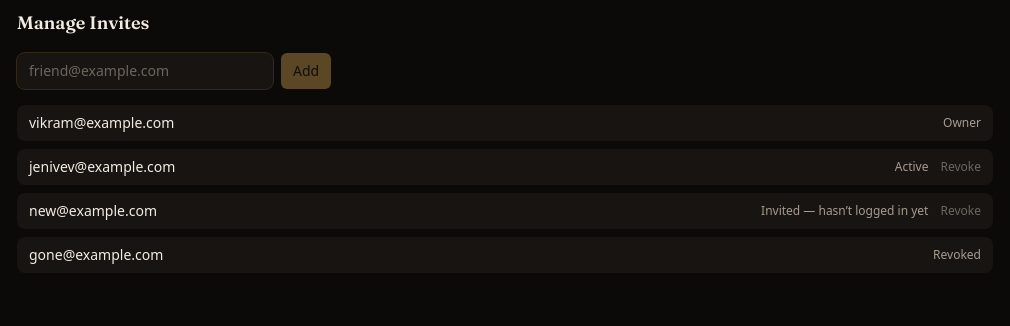
ManageInvites › revokes an active member and refreshes the list
Expected: the text "jenivev@example.com" is shown, [29,157,175,177]
Click the button with aria-label "Revoke jenivev@example.com" at (961, 167), box [940,159,981,175]
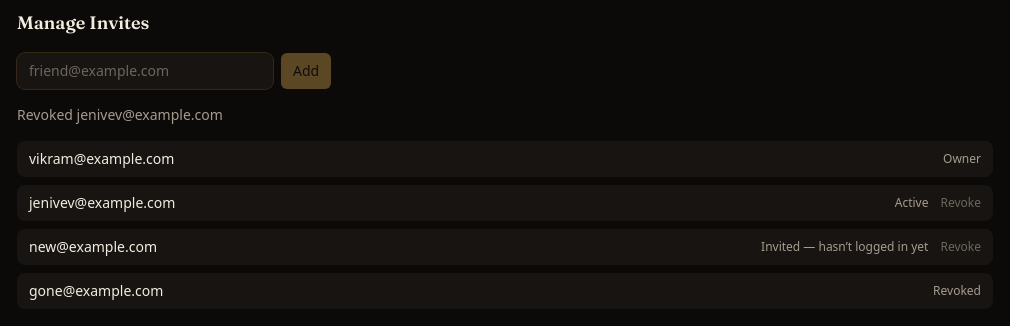
Expected: the text "Revoked jenivev@example.com" is shown, [17,105,223,124]
